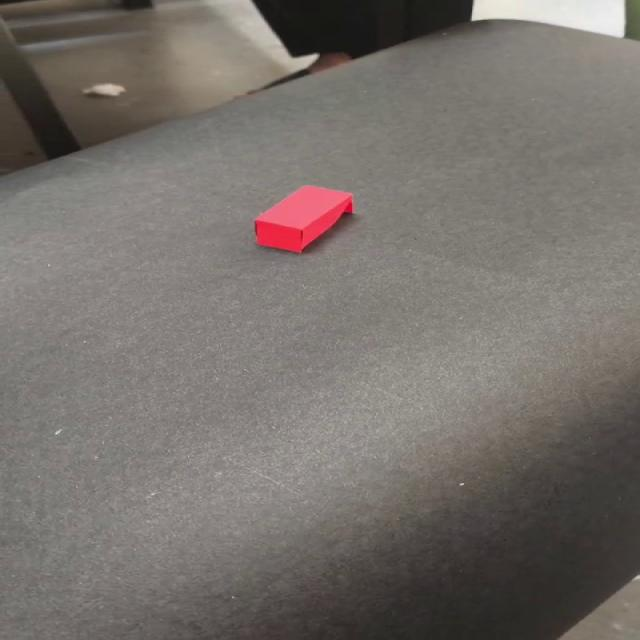red block: (252, 184, 355, 253)
